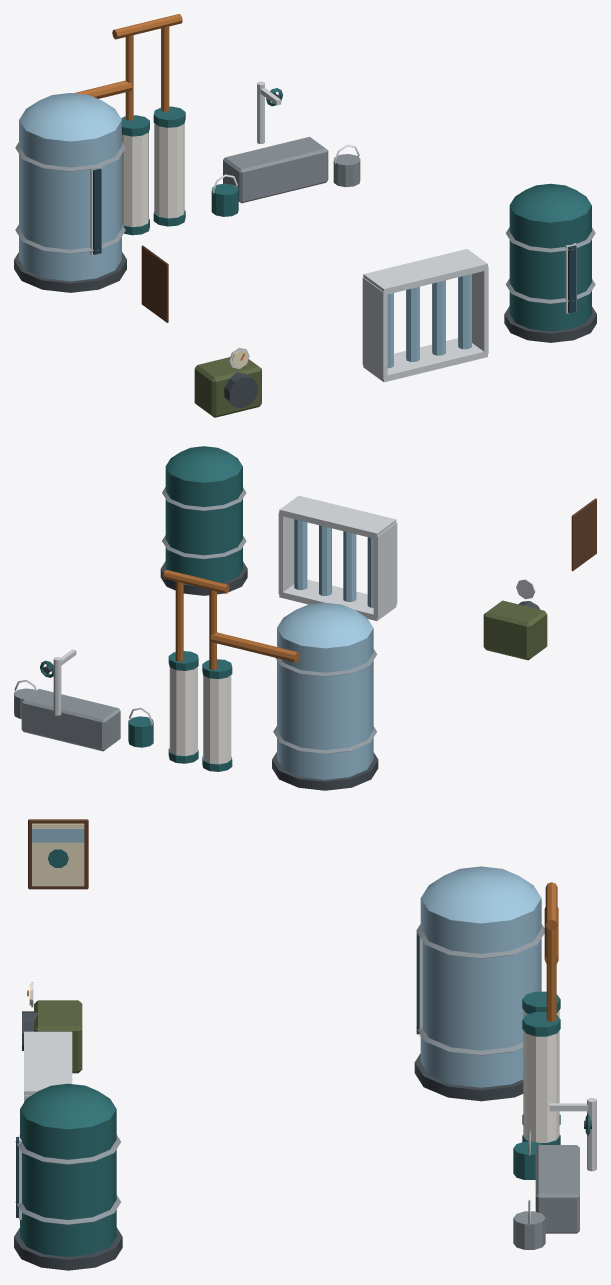
Rendered from Room_WaterPurifier_L3.fbx.
3 views of the same model, one above another, from view 1: azimuth 30°, elevation 25°; view 2: azimuth 150°, elevation 25°; view 3: azimuth 270°, elevation 25° (orthographic). The views are drawn at different scales.
Visible parts, largest first — view 1: Decor, Tank1, Tank2, Trough1, DecorNeon, Filter2, Filter1, Pump1, UVFrame1, DecorGlass; view 2: Decor, Tank1, Tank2, Trough1, DecorNeon, Pump1, Filter1, Filter2, UVFrame1; view 3: Decor, Tank1, Tank2, Filter2, Trough1, Pump1, DecorGlass.
Part boxes in pixels (x1,y1,x2,y2): Decor: (14,14,596,407); Tank1: (19,120,121,281); Tank2: (509,205,591,331); Trough1: (223,136,328,203); DecorNeon: (387,274,471,368); Filter2: (154,123,184,218); Filter1: (122,132,148,226); Pump1: (194,357,261,417); UVFrame1: (363,338,487,382); DecorGlass: (93,168,576,313); Decor: (14,446,596,790); Tank1: (277,628,373,779); Tank2: (165,467,242,582); Trough1: (21,689,120,751); DecorNeon: (294,519,373,607); Pump1: (483,600,547,660); Filter1: (203,675,231,764); Filter2: (169,667,197,755); UVFrame1: (279,579,396,620); Decor: (14,819,596,1270); Tank1: (420,898,541,1087); Tank2: (20,1109,116,1256); Filter2: (523,1030,559,1142); Trough1: (535,1145,579,1233); Pump1: (34,1000,82,1073); DecorGlass: (16,932,419,1217).
Bounding box in the file's own units: 29.7 × 12.8 × 28.95.
